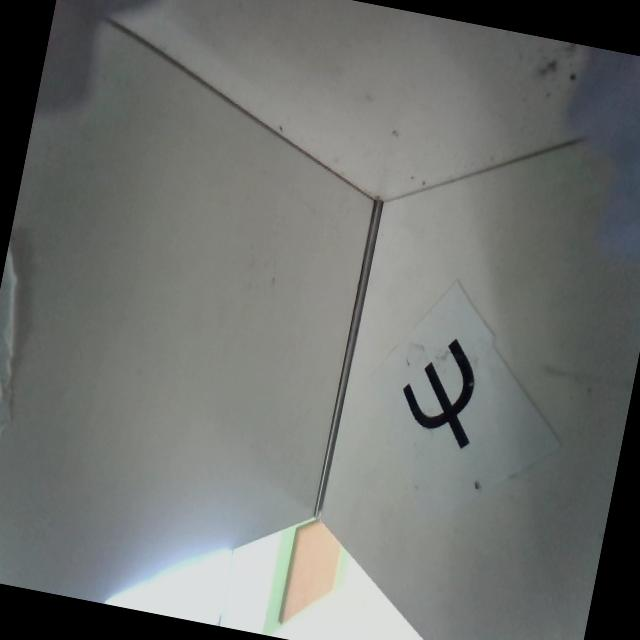nedoF: (394, 329, 488, 450)
